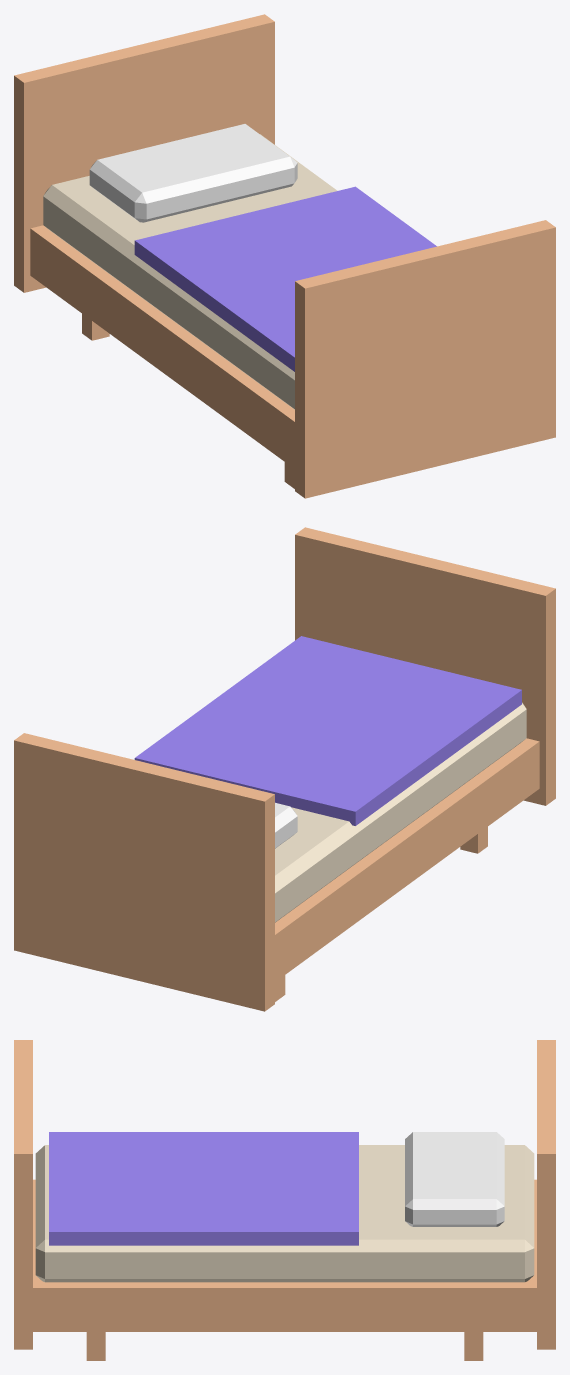
3 renders of one model, top to bottom at view 1: azimuth 30°, elevation 25°; view 2: azimuth 150°, elevation 25°; view 3: azimuth 270°, elevation 25°, orthographic. The views are drawn at different scales.
Visible parts, largest first — view 1: End board, End board.001, Blanket, Mattress, Frame, Pillow; view 2: End board.001, Blanket, End board, Frame, Mattress, Pillow; view 3: Blanket, Mattress, Frame, Pillow, End board, End board.001, Bed leg.002, Bed leg.003.
Part boxes in pixels (box(x1,y1,x2,y2)): End board: box(295, 220, 555, 498); End board.001: box(14, 14, 274, 292); Blanket: box(134, 186, 436, 371); Mattress: box(43, 134, 337, 409); Frame: box(30, 225, 294, 468); Pillow: box(89, 124, 297, 222); End board.001: box(14, 733, 274, 1011); Blanket: box(134, 636, 521, 825); End board: box(295, 527, 555, 805); Frame: box(275, 738, 539, 981); Mattress: box(275, 702, 526, 922); Pillow: box(275, 802, 297, 848); Blanket: box(49, 1132, 358, 1245); Mattress: box(35, 1145, 534, 1282); Frame: box(33, 1179, 536, 1331); Pillow: box(405, 1132, 504, 1226); End board: box(14, 1040, 32, 1349); End board.001: box(537, 1040, 555, 1349); Bed leg.002: box(86, 1332, 105, 1360); Bed leg.003: box(464, 1332, 483, 1360).
Bounding box in the file's own units: 100 × 90 × 201.
